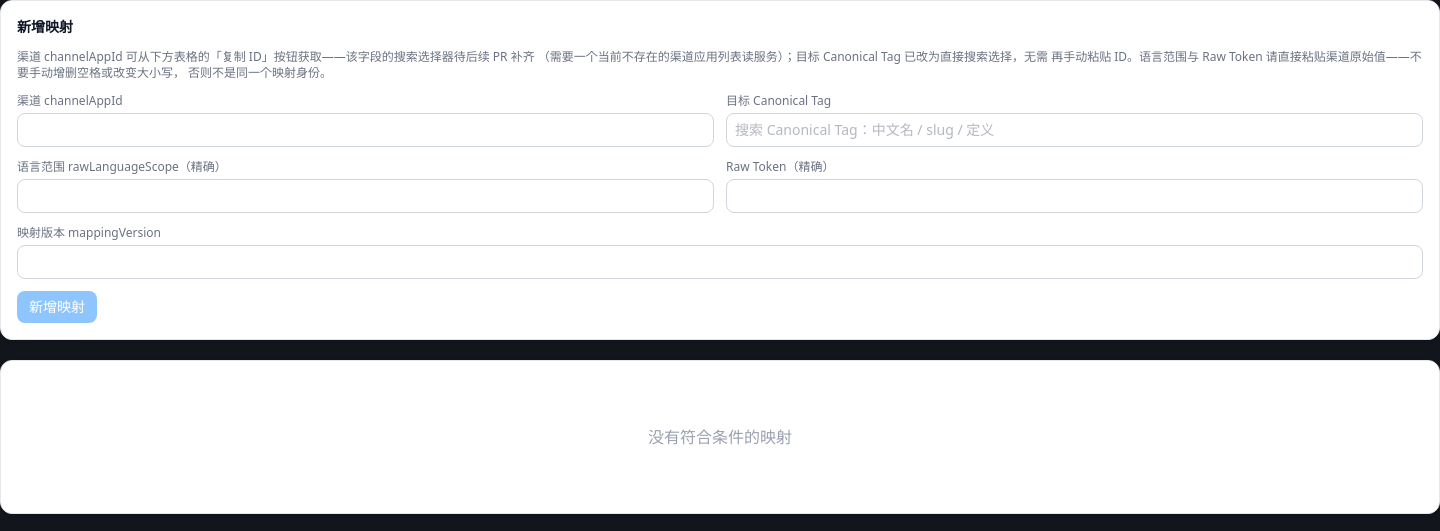
Test case: CanonicalTagPicker · 新增映射的目标 Canonical Tag 搜索选择 › 搜索请求返回错误 envelope 时展示真实中文文案，不崩溃，也不出现任何选项
The image size is (1440, 531).
Focus the dropdown labelled "目标 Canonical Tag" at x=1074, y=130, box [726, 113, 1423, 147]
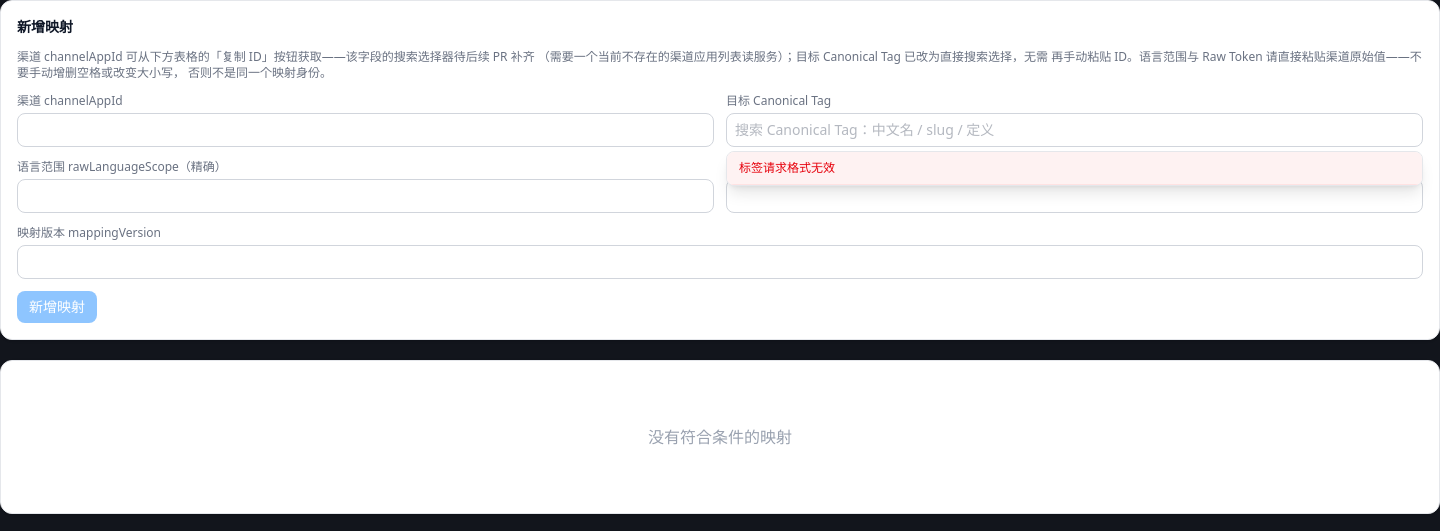
Now the message reads "标签请求格式无效", box [739, 159, 835, 176]
